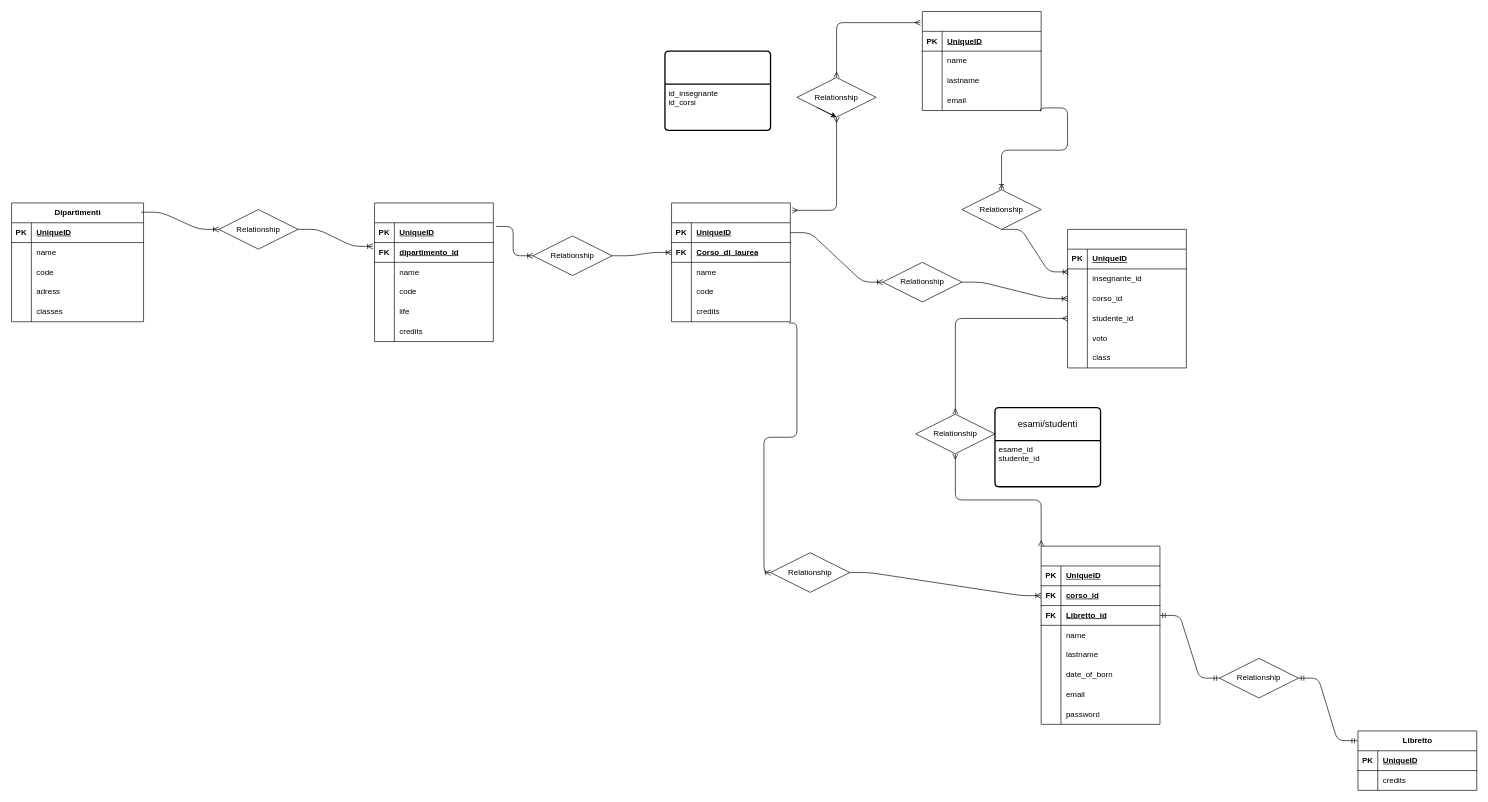
Some shapes in this 1488 by 802 pixel diagram are drawn without their labels. The box of each missing label's shape, as (x1, y1, x2, y2) in pixels:
Corsi: (671, 202, 790, 322)
Corsi_di_laurea: (374, 202, 493, 342)
corsi_insegnanti: (664, 50, 771, 131)
Esami: (1067, 229, 1186, 368)
insegnamenti: (922, 11, 1041, 111)
studenti: (1040, 545, 1160, 724)
